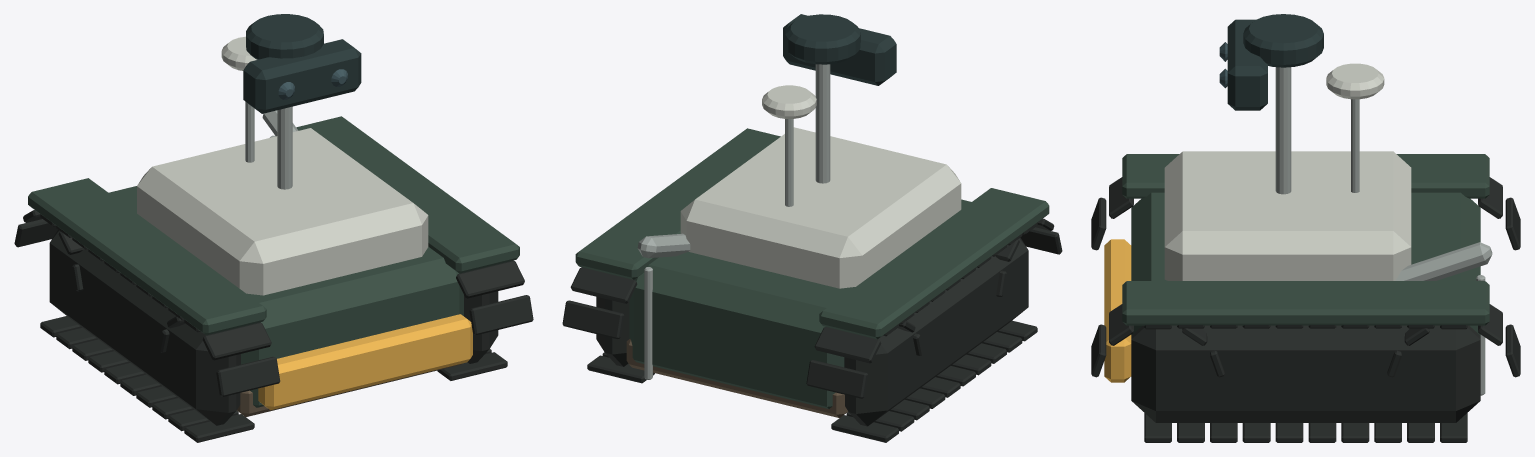
Rendered from fieldvision-inspection-robot.glb.
The picture shows the model from 3 angles, left to right: view 1: azimuth 30°, elevation 25°; view 2: azimuth 150°, elevation 25°; view 3: azimuth 270°, elevation 25°; orthographic projection. The views are drawn at different scales.
Visible parts, largest first — view 1: RobotTop, RobotBase, TrackGuard_-0.67, TrackBelt_-0.67, TrackPads_-0.67, SafetyBumper, TrackGuard_0.67, StereoCamera, TrackPads_0.67, Lidar, SensorMast, TrackBelt_0.67 (+3 smaller); view 2: RobotTop, RobotBase, TrackGuard_-0.67, TrackBelt_-0.67, TrackPads_-0.67, TrackGuard_0.67, TrackPads_0.67, Lidar, StereoCamera, SensorMast, RobotMudBand, RTKAntenna (+4 smaller); view 3: TrackBelt_0.67, RobotTop, TrackGuard_0.67, TrackPads_0.67, RobotBase, TrackGuard_-0.67, Lidar, SafetyBumper, StereoCamera, TrackPads_-0.67, SensorMast, ProbeArm (+2 smaller).
Boxes of the visible parts, box(x1,y1,x2,y2) form: RobotTop: box(137, 128, 428, 295); RobotBase: box(109, 186, 463, 407); TrackGuard_-0.67: box(28, 178, 266, 335); TrackBelt_-0.67: box(49, 230, 240, 425); TrackPads_-0.67: box(14, 210, 280, 442); SafetyBumper: box(258, 314, 472, 410); TrackGuard_0.67: box(296, 116, 519, 273); StereoCamera: box(243, 39, 361, 113); TrackPads_0.67: box(437, 260, 533, 380); Lidar: box(246, 14, 323, 59); SensorMast: box(277, 106, 292, 189); TrackBelt_0.67: box(464, 291, 498, 363); RobotTop: box(680, 127, 961, 288); RobotBase: box(629, 199, 971, 408); TrackGuard_-0.67: box(819, 188, 1049, 339); TrackBelt_-0.67: box(844, 237, 1028, 426); TrackPads_-0.67: box(806, 218, 1062, 442); TrackGuard_0.67: box(575, 128, 780, 279); TrackPads_0.67: box(562, 267, 654, 383); Lidar: box(785, 14, 860, 64); StereoCamera: box(783, 14, 896, 85); SensorMast: box(815, 64, 830, 183); RobotMudBand: box(626, 339, 848, 417); RTKAntenna: box(762, 85, 816, 118); TrackBelt_0.67: box(1131, 325, 1480, 422); RobotTop: box(1164, 151, 1411, 280); TrackGuard_0.67: box(1122, 281, 1489, 325); TrackPads_0.67: box(1091, 304, 1520, 442); RobotBase: box(1131, 192, 1480, 335); TrackGuard_-0.67: box(1122, 154, 1489, 198); Lidar: box(1243, 14, 1323, 67); SafetyBumper: box(1104, 239, 1131, 382); StereoCamera: box(1227, 19, 1267, 110); TrackPads_-0.67: box(1091, 177, 1520, 250); SensorMast: box(1275, 67, 1291, 194); ProbeArm: box(1395, 242, 1492, 280).
Bounding box in the file's own units: 1.68 × 1.66 × 1.92.
